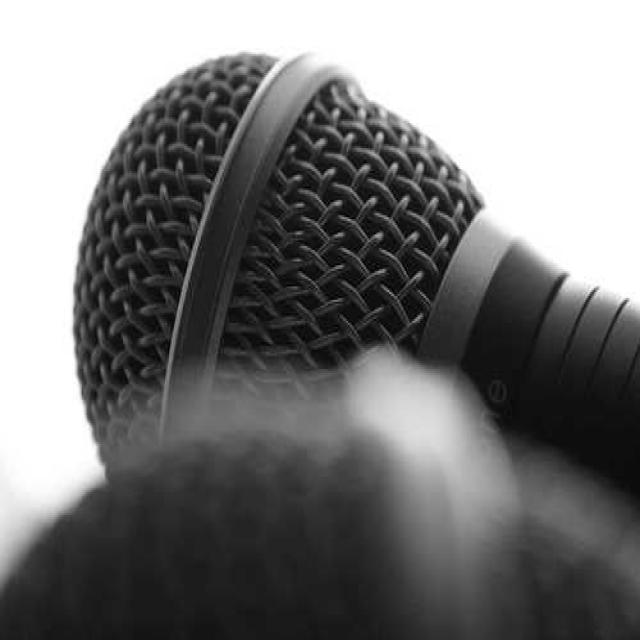microphone: (89, 52, 623, 539)
